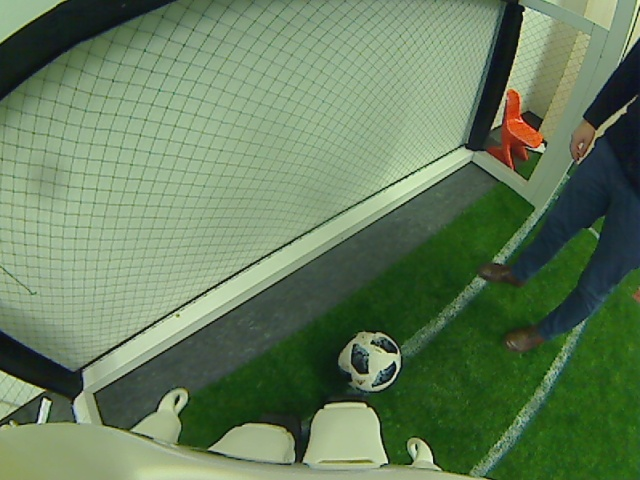ball: (341, 327, 402, 394)
